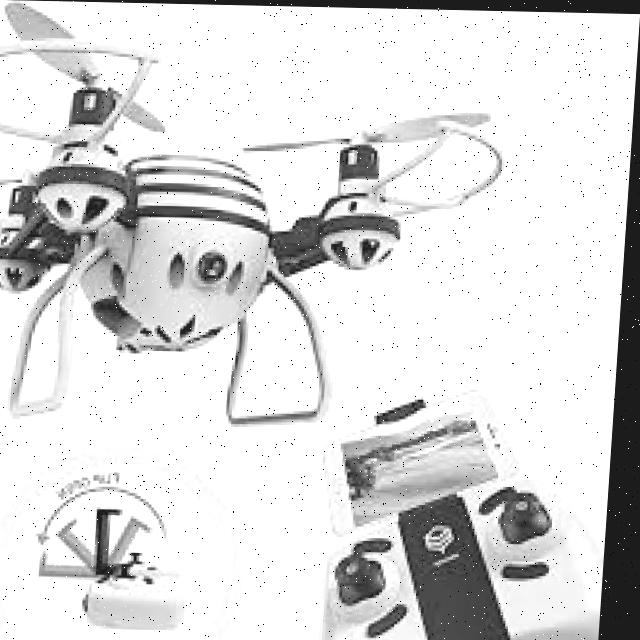drone: (0, 12, 525, 459)
